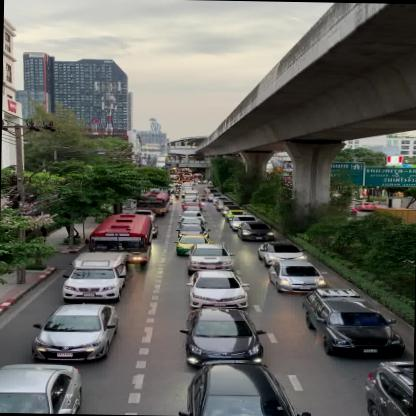bus: (88, 212, 152, 270)
car: (298, 287, 406, 358), (177, 357, 309, 415), (30, 302, 118, 362), (177, 308, 264, 367), (0, 363, 84, 414), (63, 252, 125, 300), (186, 270, 248, 308), (268, 260, 326, 294), (184, 242, 235, 271), (259, 242, 307, 266), (174, 234, 213, 256), (238, 220, 276, 239)
